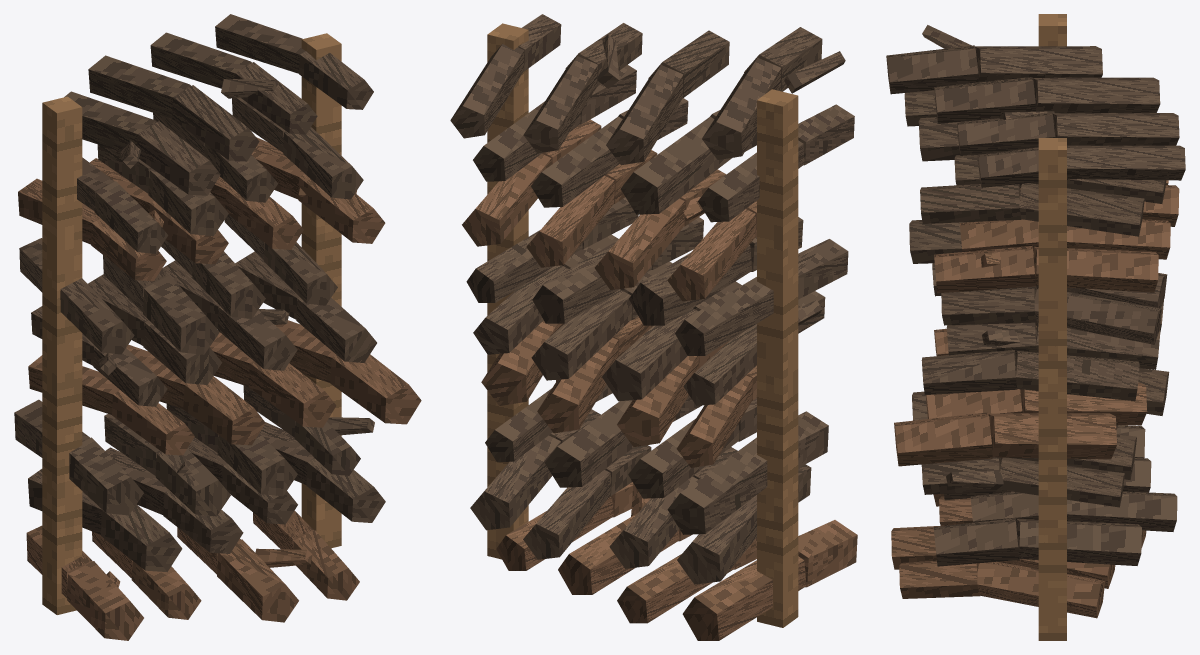
The model's file is f_stick_stack_mid.glb.
The picture shows the model from 3 angles, left to right: view 1: azimuth 30°, elevation 25°; view 2: azimuth 150°, elevation 25°; view 3: azimuth 270°, elevation 25°; orthographic projection. The views are drawn at different scales.
Visible parts, largest first — view 1: block_stacked-stick-2 (×36), block_stacked-stick-1 (×34), block_stack-retaining-stake (×2), block_short-fork-on-branch (×3); view 2: block_stacked-stick-1 (×36), block_stack-retaining-stake (×2), block_stacked-stick-2 (×17), block_short-fork-on-branch (×2); view 3: block_stacked-stick-1 (×24), block_stacked-stick-2 (×22), block_stack-retaining-stake (×2), block_short-fork-on-branch (×3).
Part boxes in pixels (x1,y1,x2,y2): block_stacked-stick-2 (×36): (60, 51, 421, 640); block_stacked-stick-1 (×34): (14, 14, 335, 597); block_stack-retaining-stake (×2): (42, 33, 341, 614); block_short-fork-on-branch (×3): (221, 79, 374, 567); block_stacked-stick-1 (×36): (450, 43, 806, 640); block_stack-retaining-stake (×2): (487, 23, 798, 627); block_stacked-stick-2 (×17): (518, 14, 857, 587); block_short-fork-on-branch (×2): (597, 35, 845, 93); block_stacked-stick-1 (×24): (975, 46, 1185, 618); block_stacked-stick-2 (×22): (886, 45, 1055, 598); block_stack-retaining-stake (×2): (1038, 14, 1066, 640); block_short-fork-on-branch (×3): (922, 25, 1036, 490).
Bounding box in the file's own units: 0.8362 × 1.35 × 0.746.
Materials: 1 (1 with a texture image).
